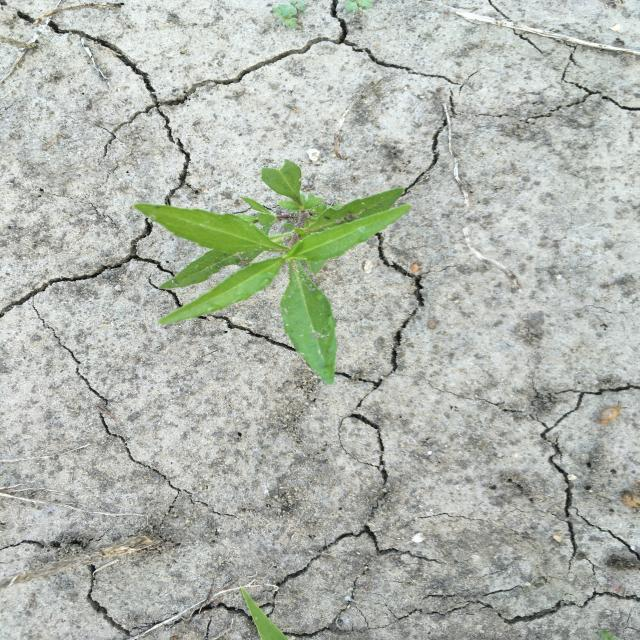Eclipta: (131, 156, 414, 386)
